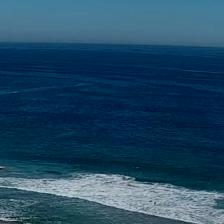surfer: (140, 171, 144, 174), (207, 178, 210, 181), (67, 160, 69, 163), (104, 165, 106, 168), (149, 200, 152, 202), (154, 201, 156, 204), (134, 166, 137, 168)
